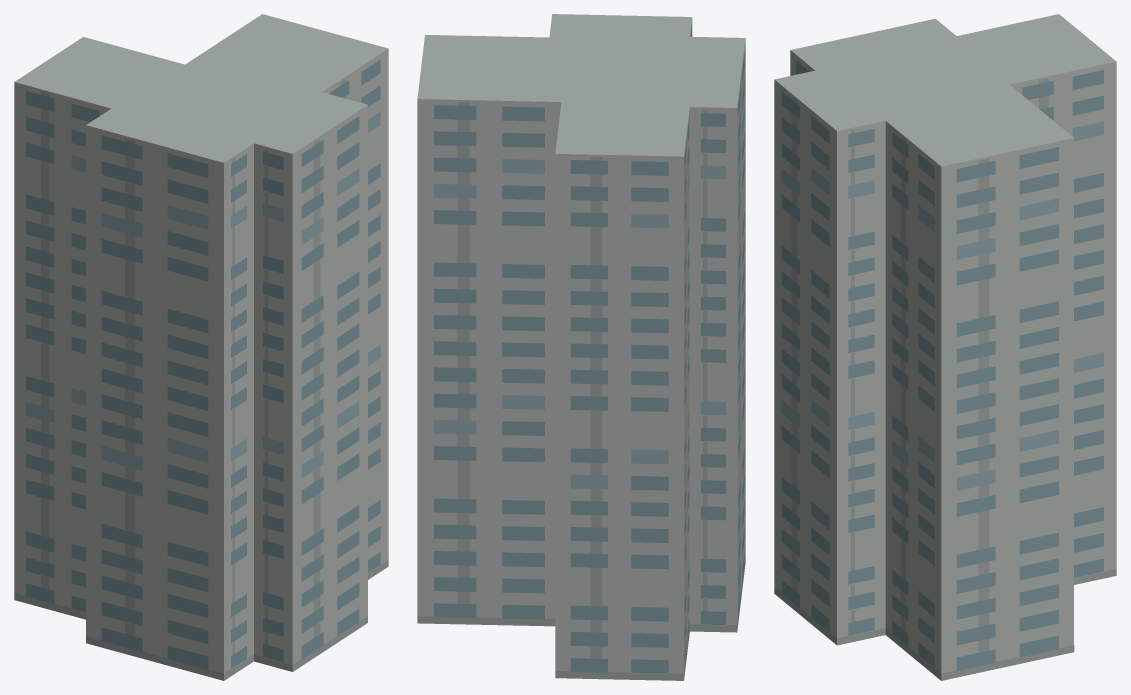
File: residential-d613c298-1046-4308-a45d-4d9e9d039e4d.glb
3 views of the same model, side by side, from view 1: azimuth 30°, elevation 25°; view 2: azimuth 150°, elevation 25°; view 3: azimuth 270°, elevation 25° (orthographic).
Visible parts, largest first — view 1: residential-d613c298-1046-4308-a45d-4d9e9d039e4d.tmp; view 2: residential-d613c298-1046-4308-a45d-4d9e9d039e4d.tmp; view 3: residential-d613c298-1046-4308-a45d-4d9e9d039e4d.tmp.
Boxes of the visible parts, box(x1,y1,x2,y2) form: residential-d613c298-1046-4308-a45d-4d9e9d039e4d.tmp: box(14, 14, 388, 680); residential-d613c298-1046-4308-a45d-4d9e9d039e4d.tmp: box(417, 14, 745, 680); residential-d613c298-1046-4308-a45d-4d9e9d039e4d.tmp: box(774, 14, 1116, 680).
Size of the model in its own units: 35.65 by 56 by 33.77.
